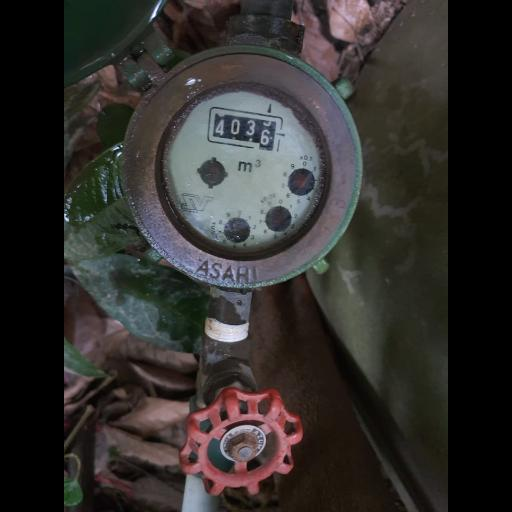0: (225, 114, 243, 140)
3: (240, 116, 262, 142)
4: (212, 112, 228, 138)
6: (258, 119, 276, 151)
border_water_meter_number: (205, 105, 284, 151)
